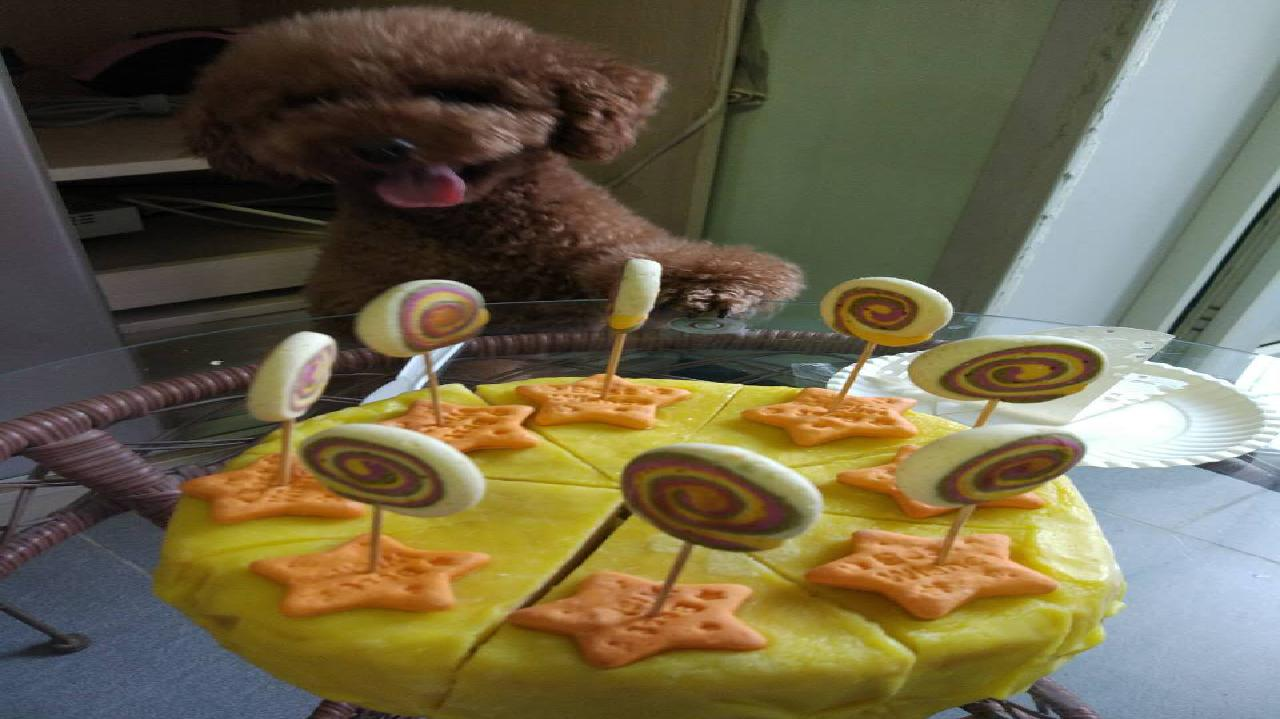zhuangzhuang: (196, 19, 803, 334)
